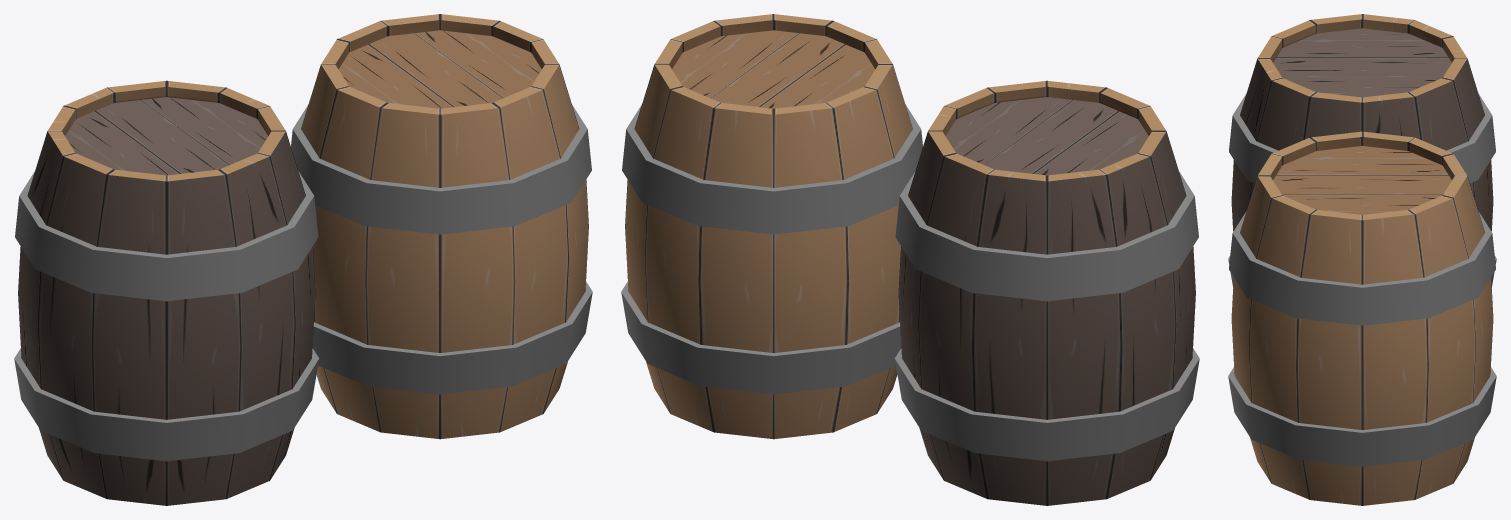
Rendered from barrel boxs.fbx.
The picture shows the model from 3 angles, left to right: view 1: azimuth 30°, elevation 25°; view 2: azimuth 150°, elevation 25°; view 3: azimuth 270°, elevation 25°; orthographic projection. The views are drawn at different scales.
Parts seen in each view (by area): view 1: props_barrel_02, props_barrel_01; view 2: props_barrel_02, props_barrel_01; view 3: props_barrel_01, props_barrel_02.
Part boxes in pixels (left/top/right/bottom): props_barrel_02: left=14, top=80, right=319, bottom=505; props_barrel_01: left=291, top=14, right=592, bottom=439; props_barrel_02: left=894, top=80, right=1199, bottom=505; props_barrel_01: left=621, top=14, right=922, bottom=439; props_barrel_01: left=1228, top=131, right=1496, bottom=505; props_barrel_02: left=1228, top=14, right=1496, bottom=287.
Size of the model in its own units: 177 by 102 by 86.95.
1 material, 1 textured.
